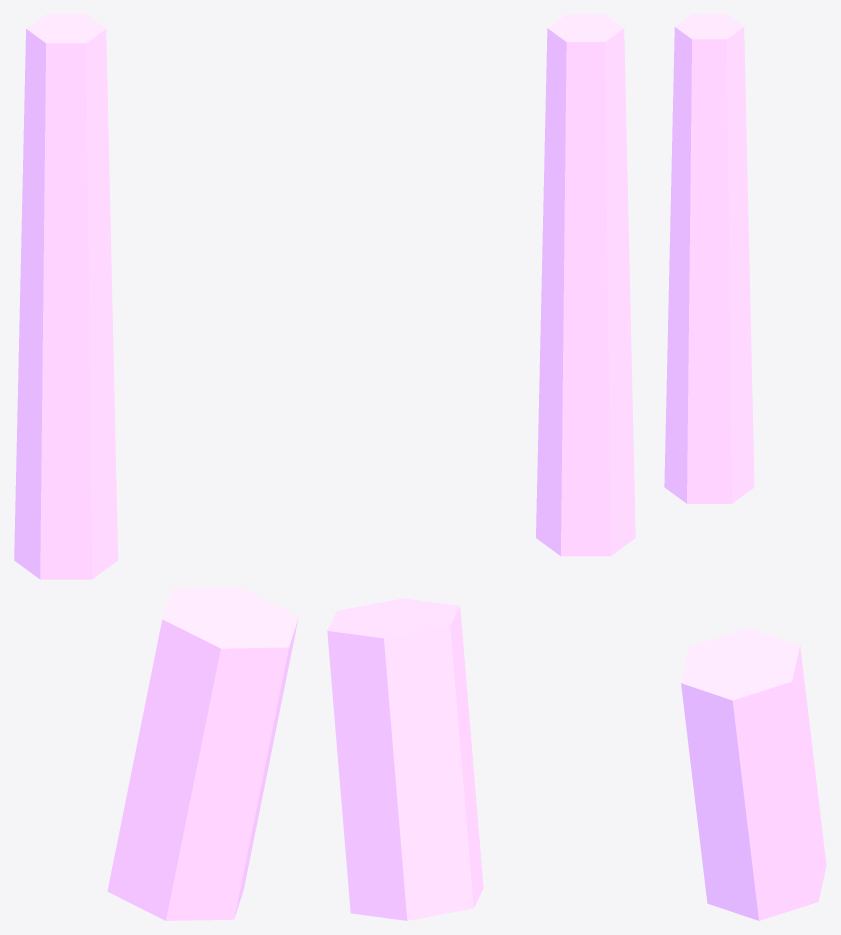
The model's file is echo_crystal.glb.
The picture shows the model from 3 angles, left to right: view 1: azimuth 30°, elevation 25°; view 2: azimuth 150°, elevation 25°; view 3: azimuth 270°, elevation 25°; orthographic projection. The views are drawn at different scales.
Parts seen in each view (by area): view 1: EchoCrystal, Cylinder; view 2: EchoCrystal, Cylinder; view 3: EchoCrystal, Cylinder.
Part boxes in pixels (x1,y1,x2,y2): EchoCrystal: (14,14,118,579); Cylinder: (107,587,298,920); EchoCrystal: (536,14,635,556); Cylinder: (327,598,483,920); EchoCrystal: (664,14,754,503); Cylinder: (681,628,826,920).
Size of the model in its own units: 0.9646 by 3.01 by 0.5488.
